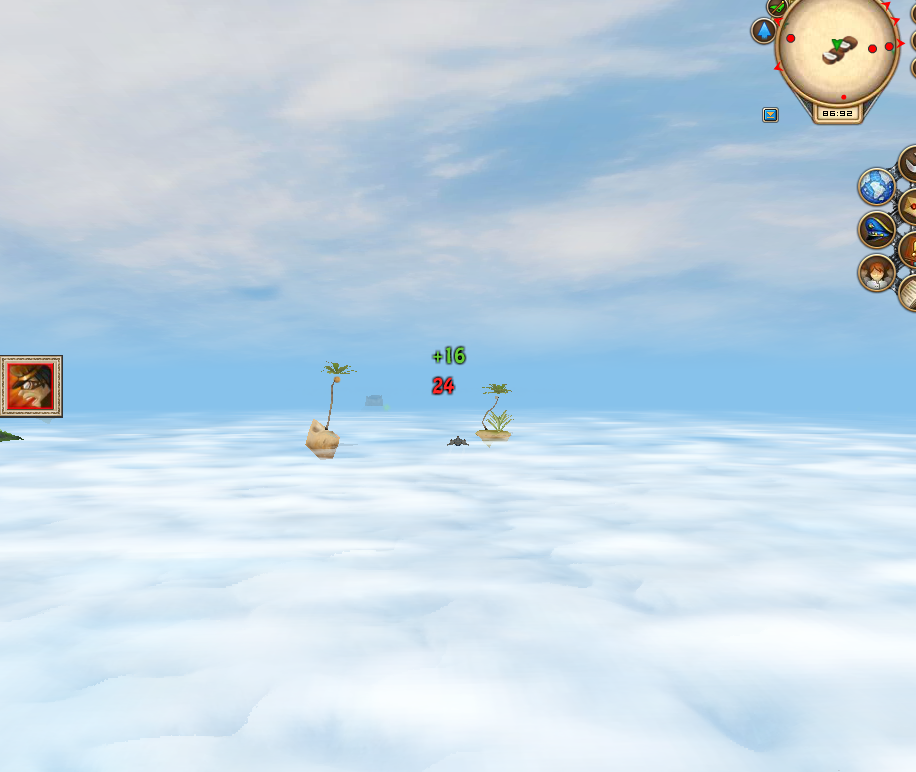palm: (294, 360, 359, 461), (472, 378, 517, 448)
